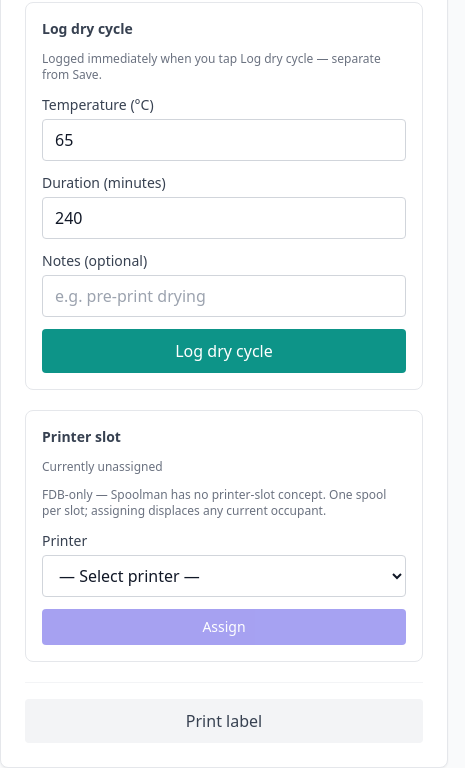
Test: MobileSpoolUpdate › shows the slot select after a printer is selected
The image size is (465, 768).
(page scrolled)
Select "Bambu X1C" in the dropdown labelled "Printer" at (224, 576), box [42,554,406,596]
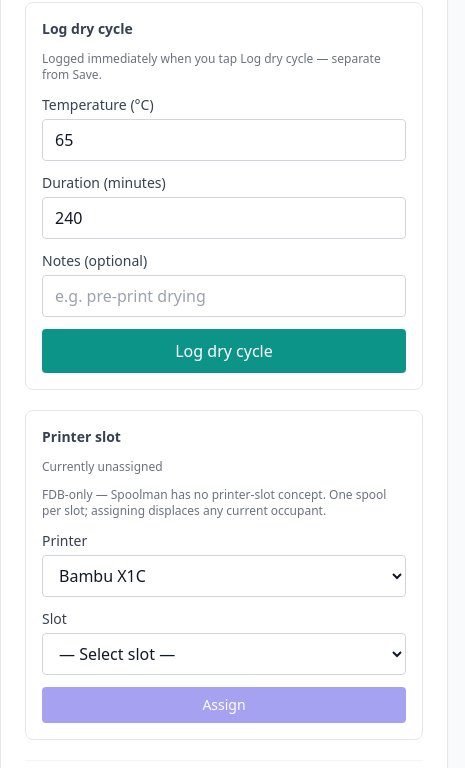
Check: the dropdown labelled "Slot" is shown, box [42,632,406,674]
